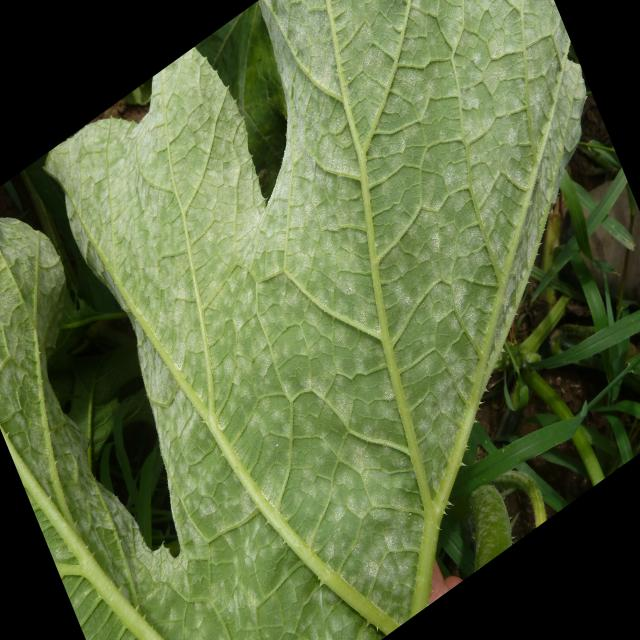Powdery Mildew: (176, 109, 432, 545)
